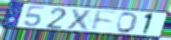1: (141, 13, 155, 36)
2: (45, 6, 69, 31)
5: (23, 6, 48, 28)
F: (91, 9, 119, 32)
O: (115, 11, 140, 34)
X: (65, 8, 97, 32)
